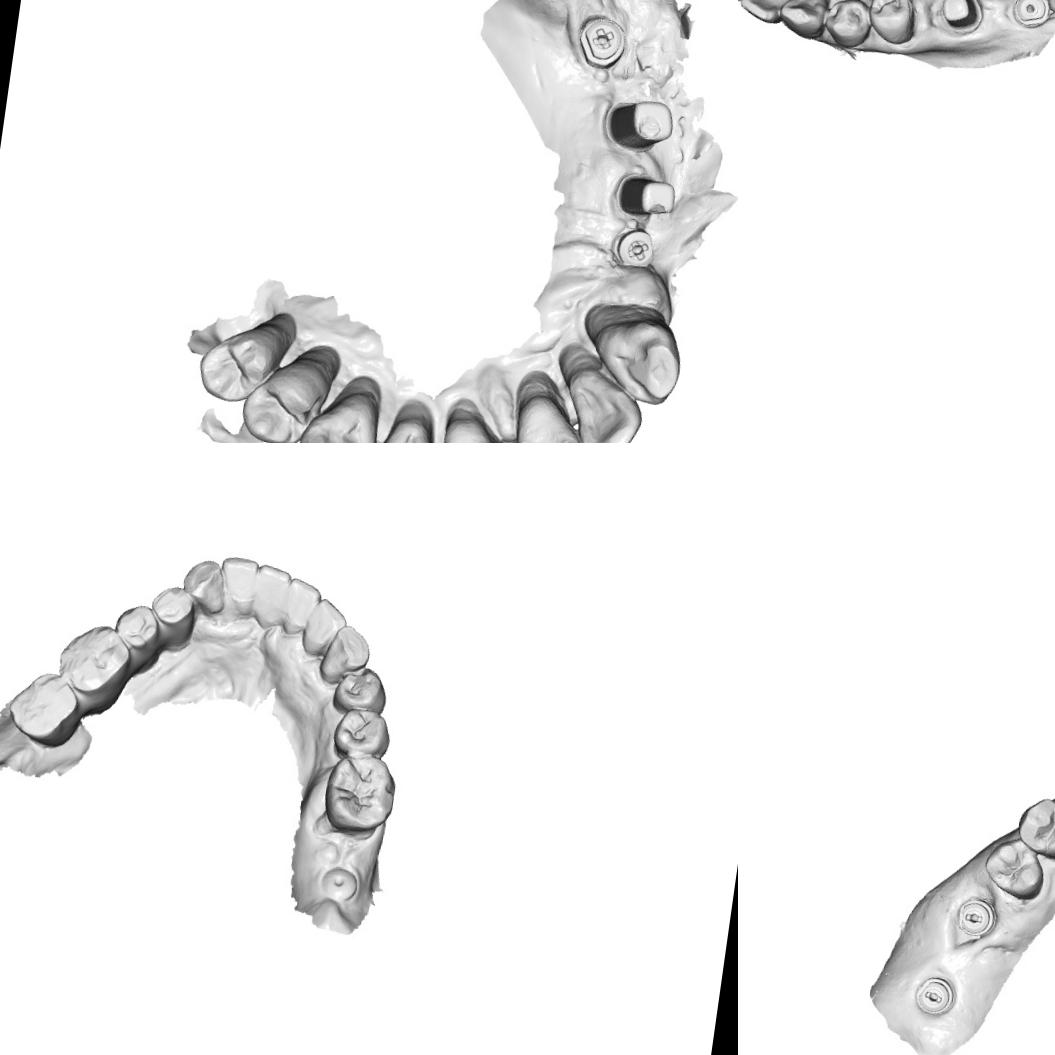abutment: (602, 92, 677, 154), (611, 170, 680, 223), (936, 0, 985, 36)
canine: (586, 314, 684, 408), (294, 385, 381, 443), (316, 620, 374, 689), (178, 550, 232, 622), (775, 0, 831, 42)
implant: (1009, 0, 1053, 30)
implant_minus: (911, 973, 960, 1020), (952, 894, 1000, 941)
implant_plus: (572, 6, 632, 68), (613, 225, 654, 268)
incisor: (558, 365, 648, 443), (506, 390, 599, 443), (214, 548, 261, 627), (431, 406, 524, 443), (300, 596, 351, 661), (250, 558, 293, 630), (367, 407, 443, 443), (282, 575, 324, 640), (738, 0, 798, 26)
molar: (50, 618, 136, 720), (319, 748, 402, 839), (3, 667, 88, 751)
premolar: (192, 323, 278, 408), (235, 366, 320, 443), (978, 833, 1050, 903), (110, 599, 167, 677), (147, 579, 200, 652), (330, 704, 394, 764), (330, 662, 391, 718), (1012, 793, 1055, 864), (863, 0, 921, 48), (820, 0, 873, 52)
